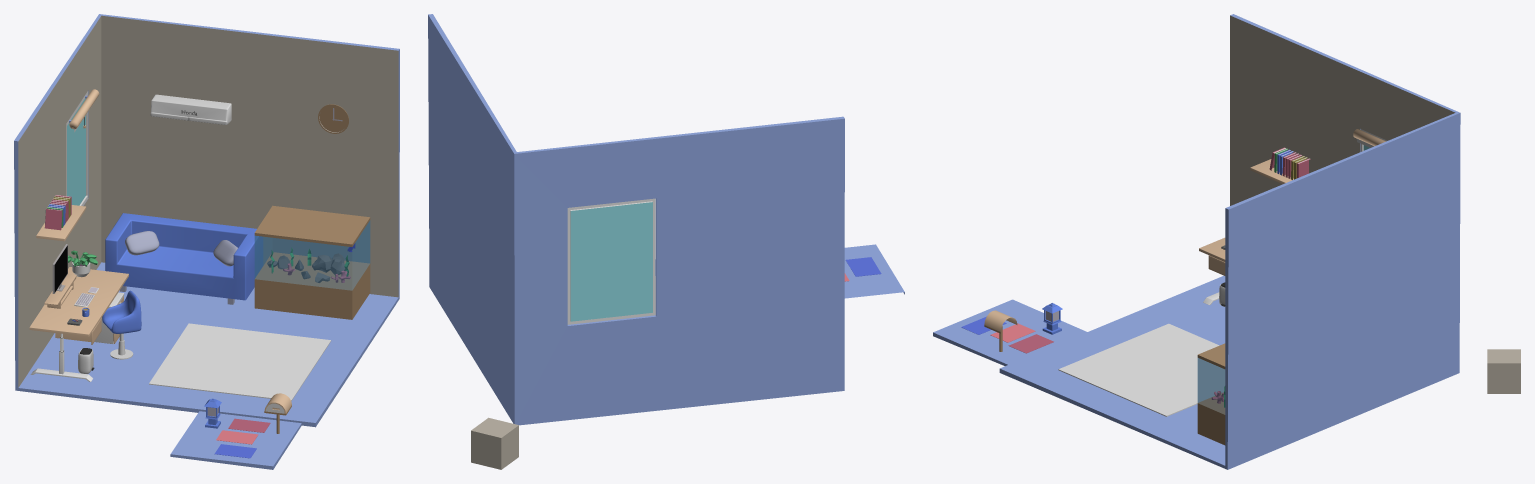
File: room.glb
3 views of the same model, side by side, from view 1: azimuth 30°, elevation 25°; view 2: azimuth 150°, elevation 25°; view 3: azimuth 270°, elevation 25° (orthographic). The views are drawn at different scales.
Parts seen in each view (by area): view 1: body, aquarium, sofa, floor-items, desk, ground, conditioner, table-items, shelf, chair, clock, computer (+5 smaller); view 2: body, preloader, ground, step-first; view 3: body, floor-items, ground, aquarium, preloader, shelf, desk.
Part boxes in pixels (x1,y1,x2,y2): body: (14,14,399,427); aquarium: (254,205,370,319); sofa: (105,213,262,304); floor-items: (78,292,331,400); desk: (29,267,128,381); ground: (170,411,301,469); conditioner: (150,94,231,124); table-items: (44,250,99,325); shelf: (36,195,86,241); chair: (102,290,141,333); clock: (318,104,348,133); computer: (52,244,67,293); body: (428,14,844,425); preloader: (471,417,518,469); ground: (844,244,904,298); step-first: (845,257,881,276); body: (999,14,1460,469); floor-items: (1058,282,1225,416); ground: (933,299,1086,365); aquarium: (1197,343,1225,445); preloader: (1487,349,1520,393); shelf: (1250,147,1310,183); desk: (1199,237,1225,305).
Bounding box in the file's own units: 27.5 × 18.06 × 34.92.
